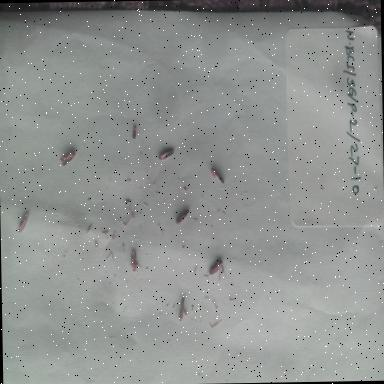pbw: (202, 257, 226, 278), (58, 146, 80, 168), (174, 291, 188, 325), (15, 210, 29, 236), (209, 164, 225, 186), (156, 147, 178, 163), (174, 208, 192, 226), (128, 248, 140, 274)
